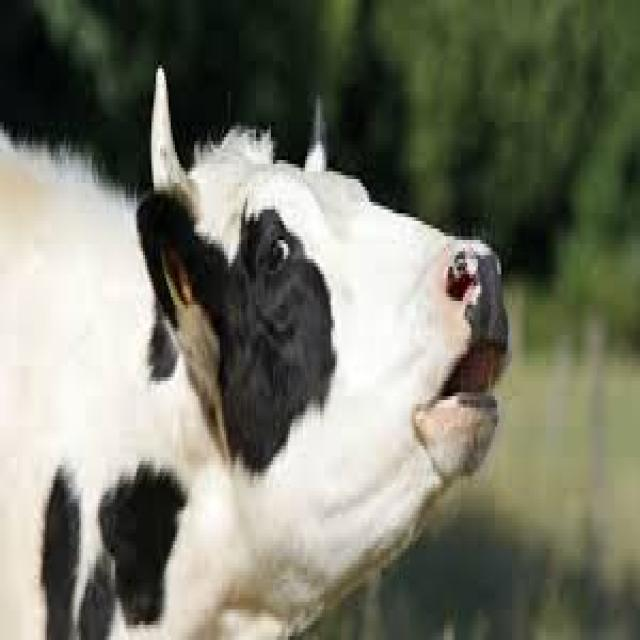cow: (114, 120, 466, 486)
